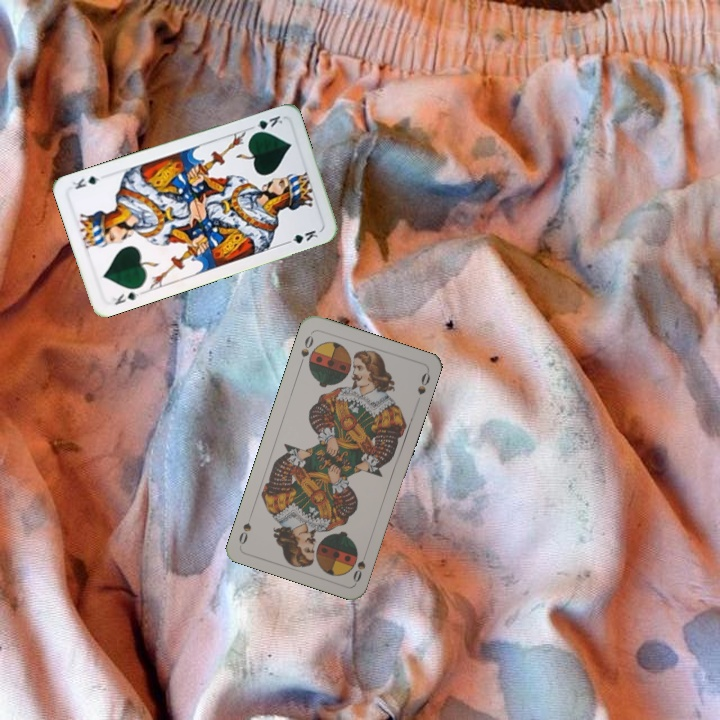GK: (246, 111, 285, 137), (105, 287, 145, 307)
SO: (295, 329, 316, 368), (349, 546, 370, 585)
